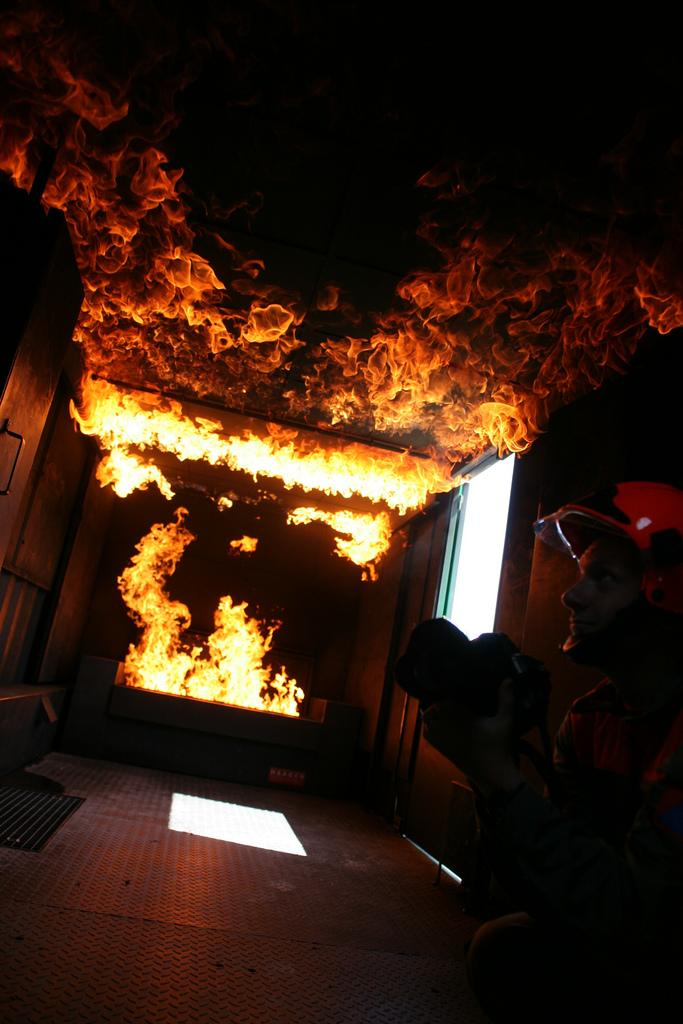fire: (138, 422, 438, 530), (140, 582, 298, 690)
